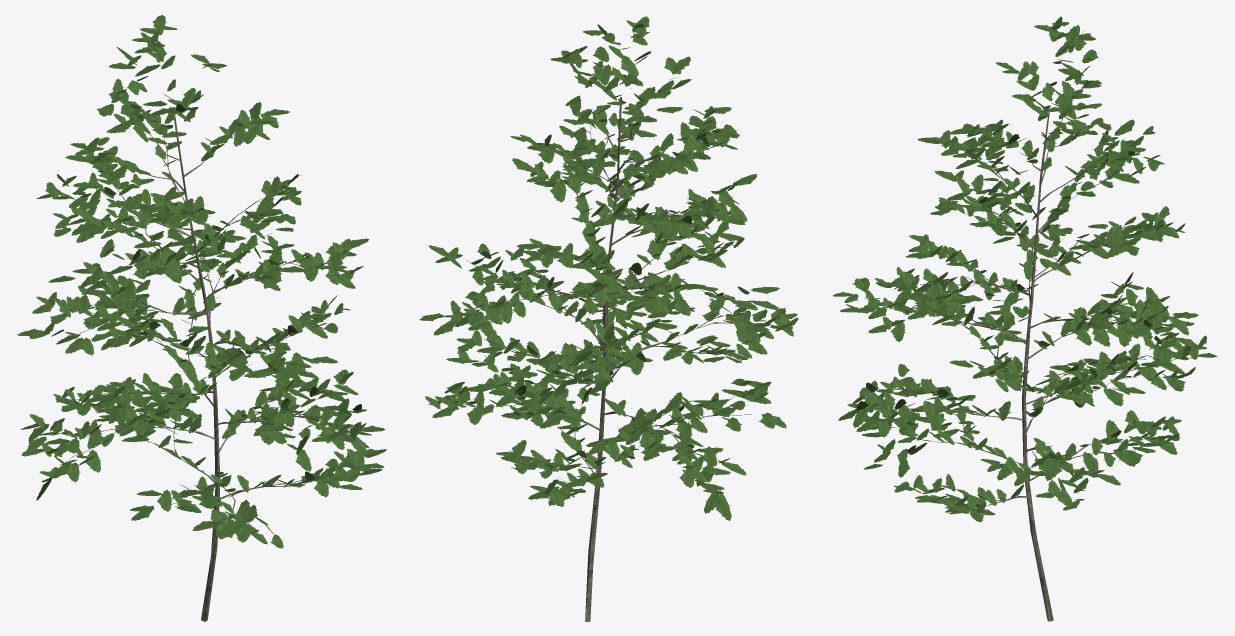
The model's file is bush_02_lod1.glb.
3 renders of one model, left to right at view 1: azimuth 30°, elevation 25°; view 2: azimuth 150°, elevation 25°; view 3: azimuth 270°, elevation 25°, orthographic. The views are drawn at different scales.
Visible parts, largest first — view 1: Scatter_bush_02_LOD1; view 2: Scatter_bush_02_LOD1; view 3: Scatter_bush_02_LOD1.
Part boxes in pixels (x1,y1,x2,y2): Scatter_bush_02_LOD1: (17,15,386,621); Scatter_bush_02_LOD1: (419,16,798,621); Scatter_bush_02_LOD1: (832,16,1216,621).
Size of the model in its own units: 1.11 by 1.93 by 1.18.
Materials: 1 (1 with a texture image).
